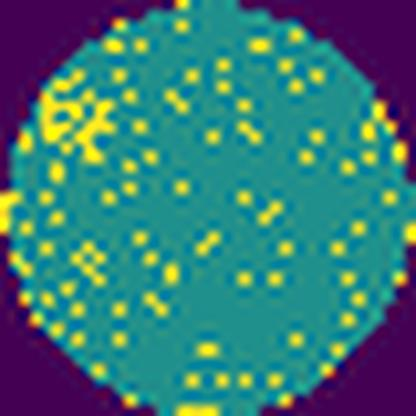Edge-Loc: (38, 86, 119, 164)
